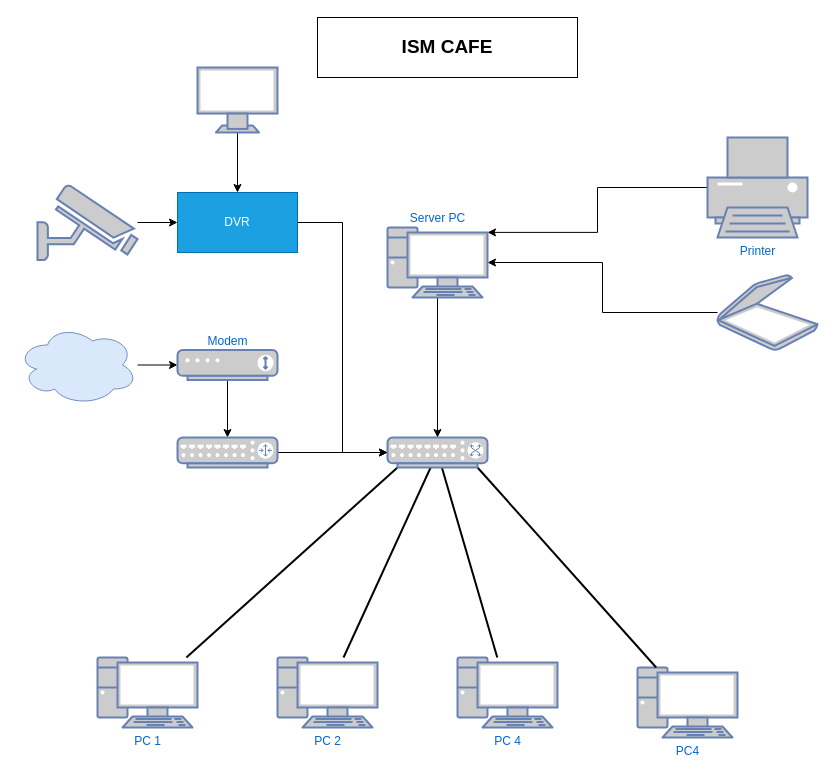
Some shapes in this 836 by 776 pixel diagram are drawn without their labels. Here are the shapes that lost their labels. From the top down, the box of each, then its label:
(196, 66, 278, 133): Monitor
(716, 274, 818, 350): Scanner
(16, 324, 138, 405): INTERNET
(176, 436, 278, 468): Router
(386, 436, 488, 468): Switch
